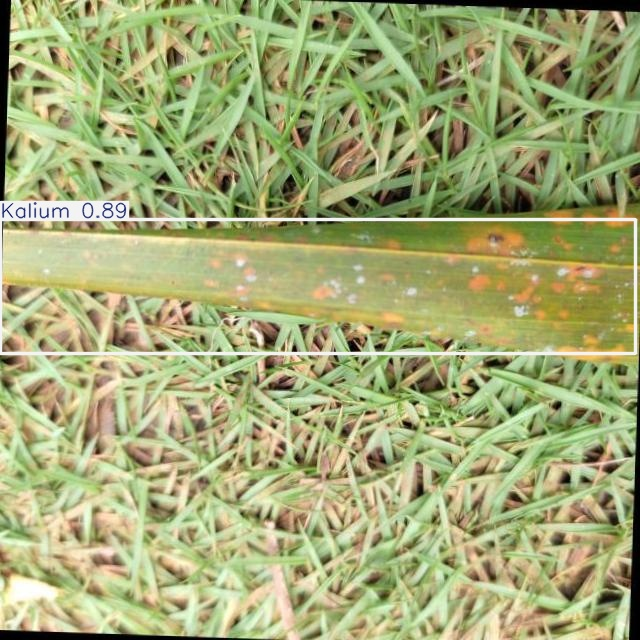Kalium: (1, 219, 636, 354)
